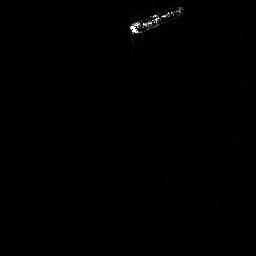ship: (126, 3, 188, 36)
